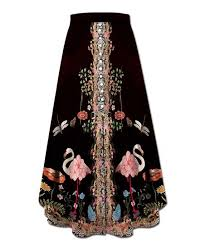C_skirt: (31, 8, 171, 243)
